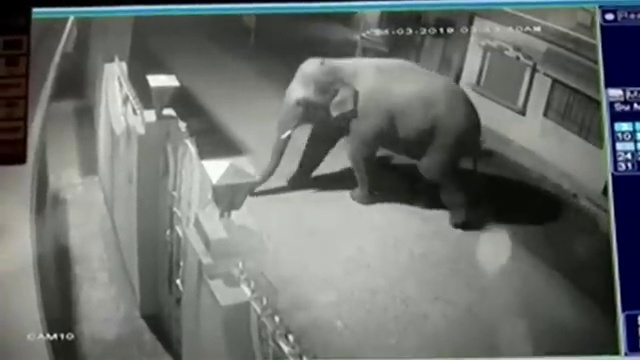Elephant: (262, 57, 482, 229)
